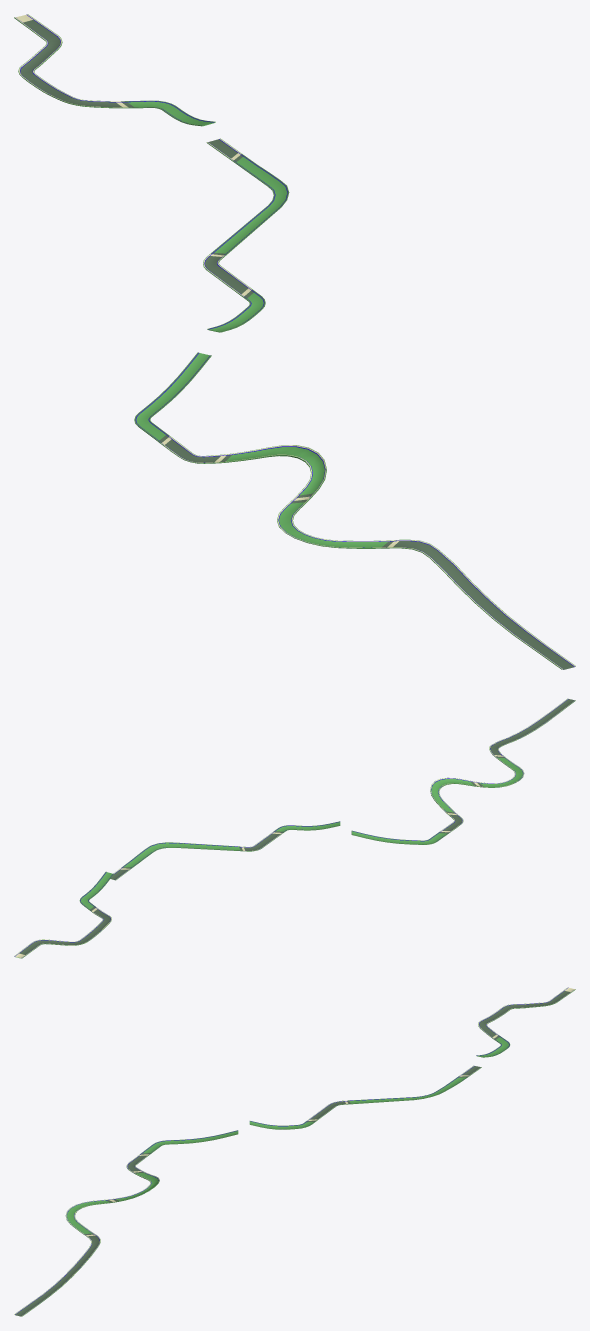
The model's file is Squares_Track.FBX.
3 renders of one model, top to bottom at view 1: azimuth 30°, elevation 25°; view 2: azimuth 150°, elevation 25°; view 3: azimuth 330°, elevation 25°, orthographic. The views are drawn at different scales.
Parts seen in each view (by area): view 1: Object138; view 2: Object138; view 3: Object138.
Part boxes in pixels (x1,y1,x2,y2): Object138: [14, 14, 575, 669]; Object138: [14, 698, 575, 958]; Object138: [14, 987, 575, 1316].
Size of the model in its own units: 28801 by 6444 by 115763.
